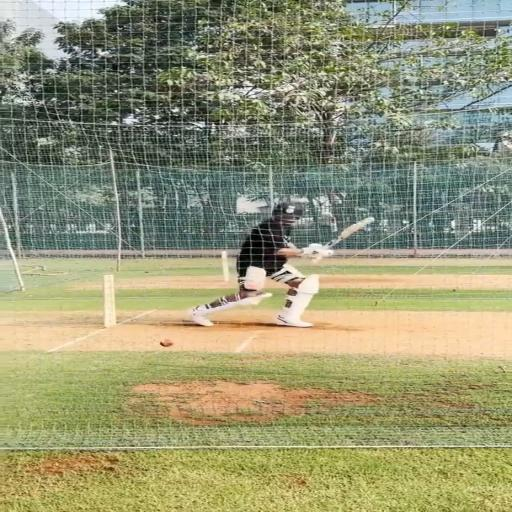Cricket bat: (324, 218, 373, 251)
